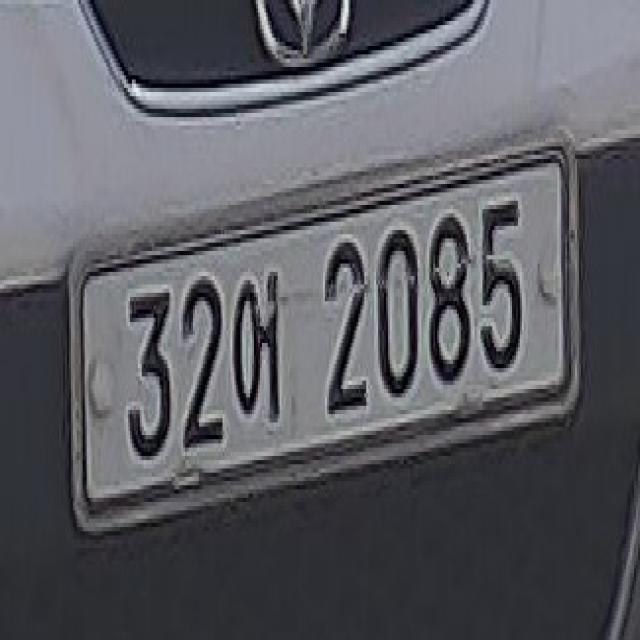0: (372, 222, 420, 402)
2: (321, 234, 370, 418), (179, 272, 225, 447)
3: (124, 272, 173, 468)
5: (478, 201, 524, 376)
8: (427, 205, 473, 389)
eo: (228, 264, 284, 422)
license_plate: (79, 151, 573, 506)
